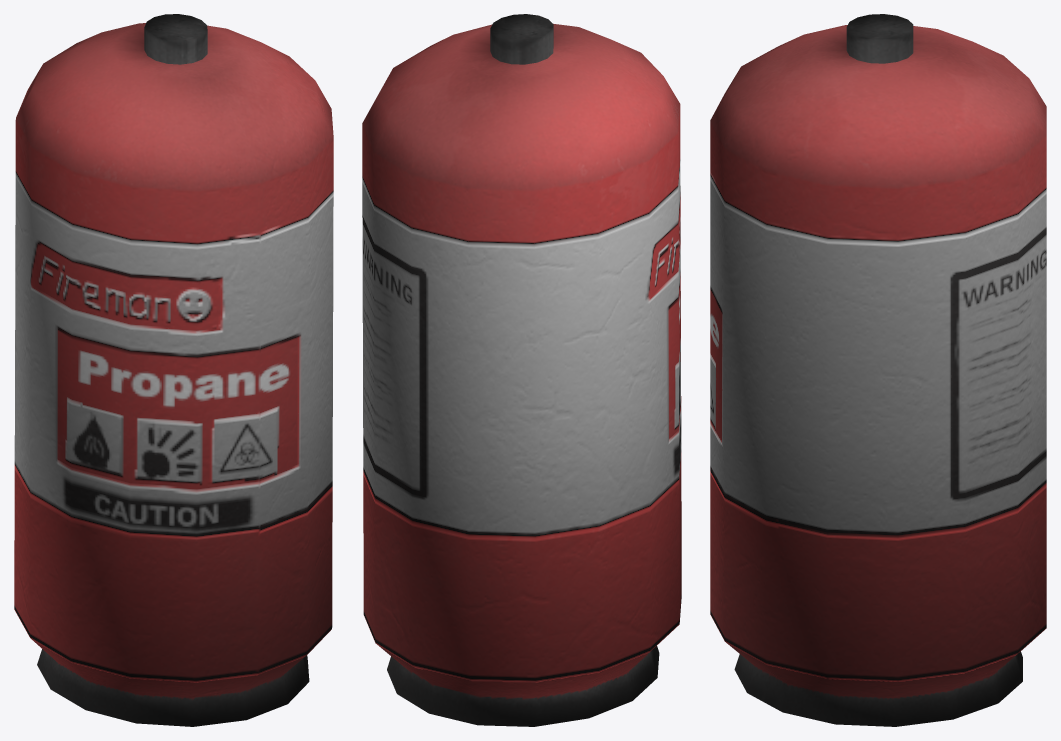
Rendered from TLOG_FlamethrowerFuelTank.fbx.
3 views of the same model, side by side, from view 1: azimuth 30°, elevation 25°; view 2: azimuth 150°, elevation 25°; view 3: azimuth 270°, elevation 25° (orthographic).
Visible parts, largest first — view 1: flamethrowerSemiready.001; view 2: flamethrowerSemiready.001; view 3: flamethrowerSemiready.001.
Boxes of the visible parts, bbox=[...] form: flamethrowerSemiready.001: bbox=[14, 14, 333, 726]; flamethrowerSemiready.001: bbox=[362, 14, 681, 726]; flamethrowerSemiready.001: bbox=[710, 14, 1046, 726].
Size of the model in its own units: 0.0508 by 0.114 by 0.054.
